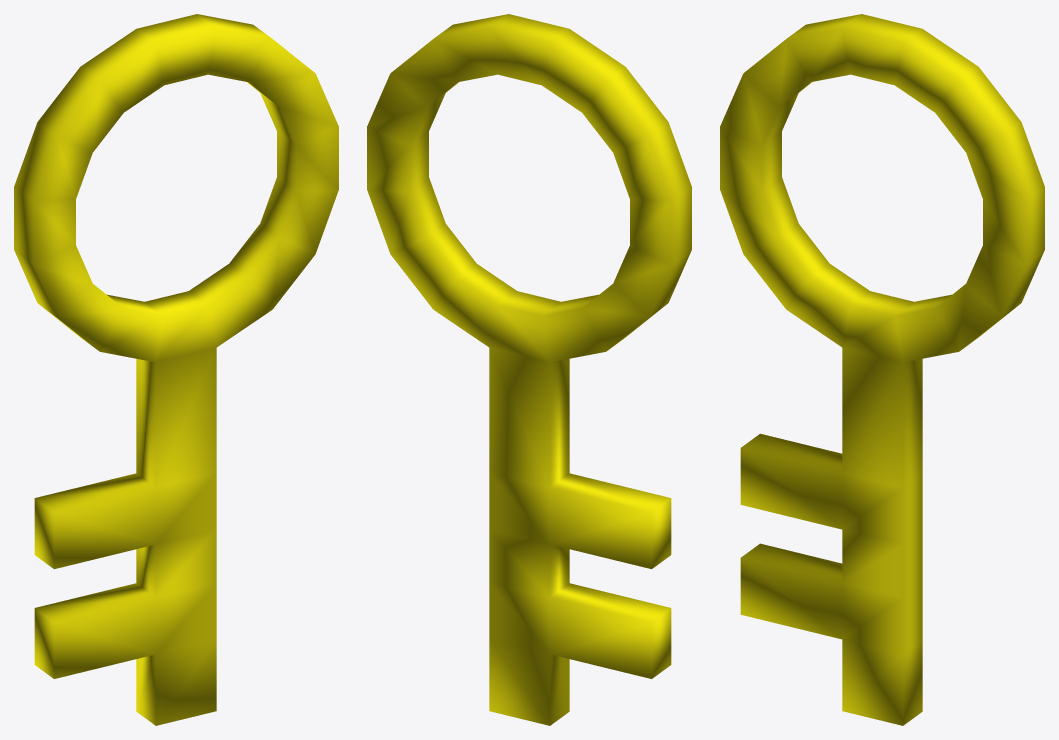
The model's file is key.fbx.
The picture shows the model from 3 angles, left to right: view 1: azimuth 30°, elevation 25°; view 2: azimuth 150°, elevation 25°; view 3: azimuth 330°, elevation 25°; orthographic projection.
Parts seen in each view (by area): view 1: Mesh; view 2: Mesh; view 3: Mesh.
Boxes of the visible parts, x1=… form: Mesh: x1=14, y1=14, x2=338, y2=725; Mesh: x1=367, y1=14, x2=691, y2=725; Mesh: x1=720, y1=14, x2=1044, y2=725.
Bounding box in the file's own units: 0.4497 × 0.9616 × 0.05.
